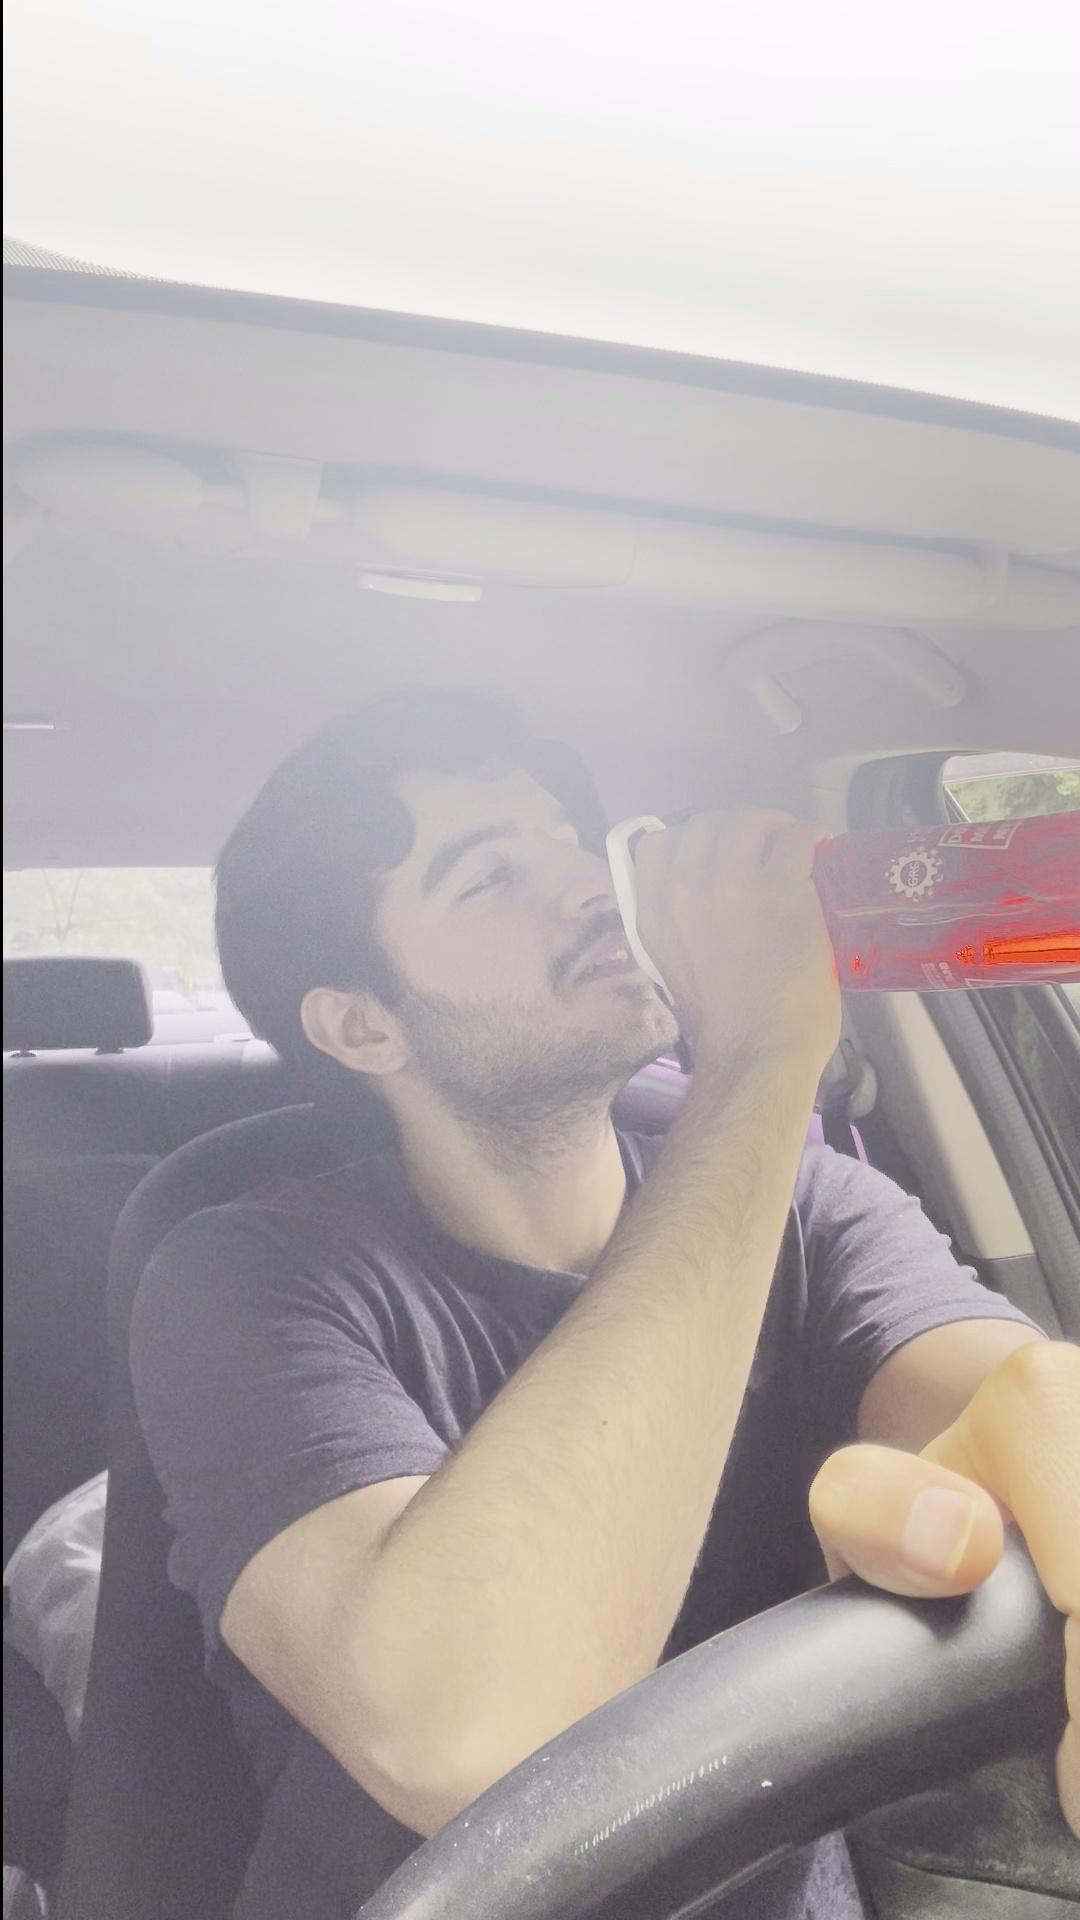drinking: (611, 800, 1080, 1000)
inattentive: (144, 744, 700, 1087)
